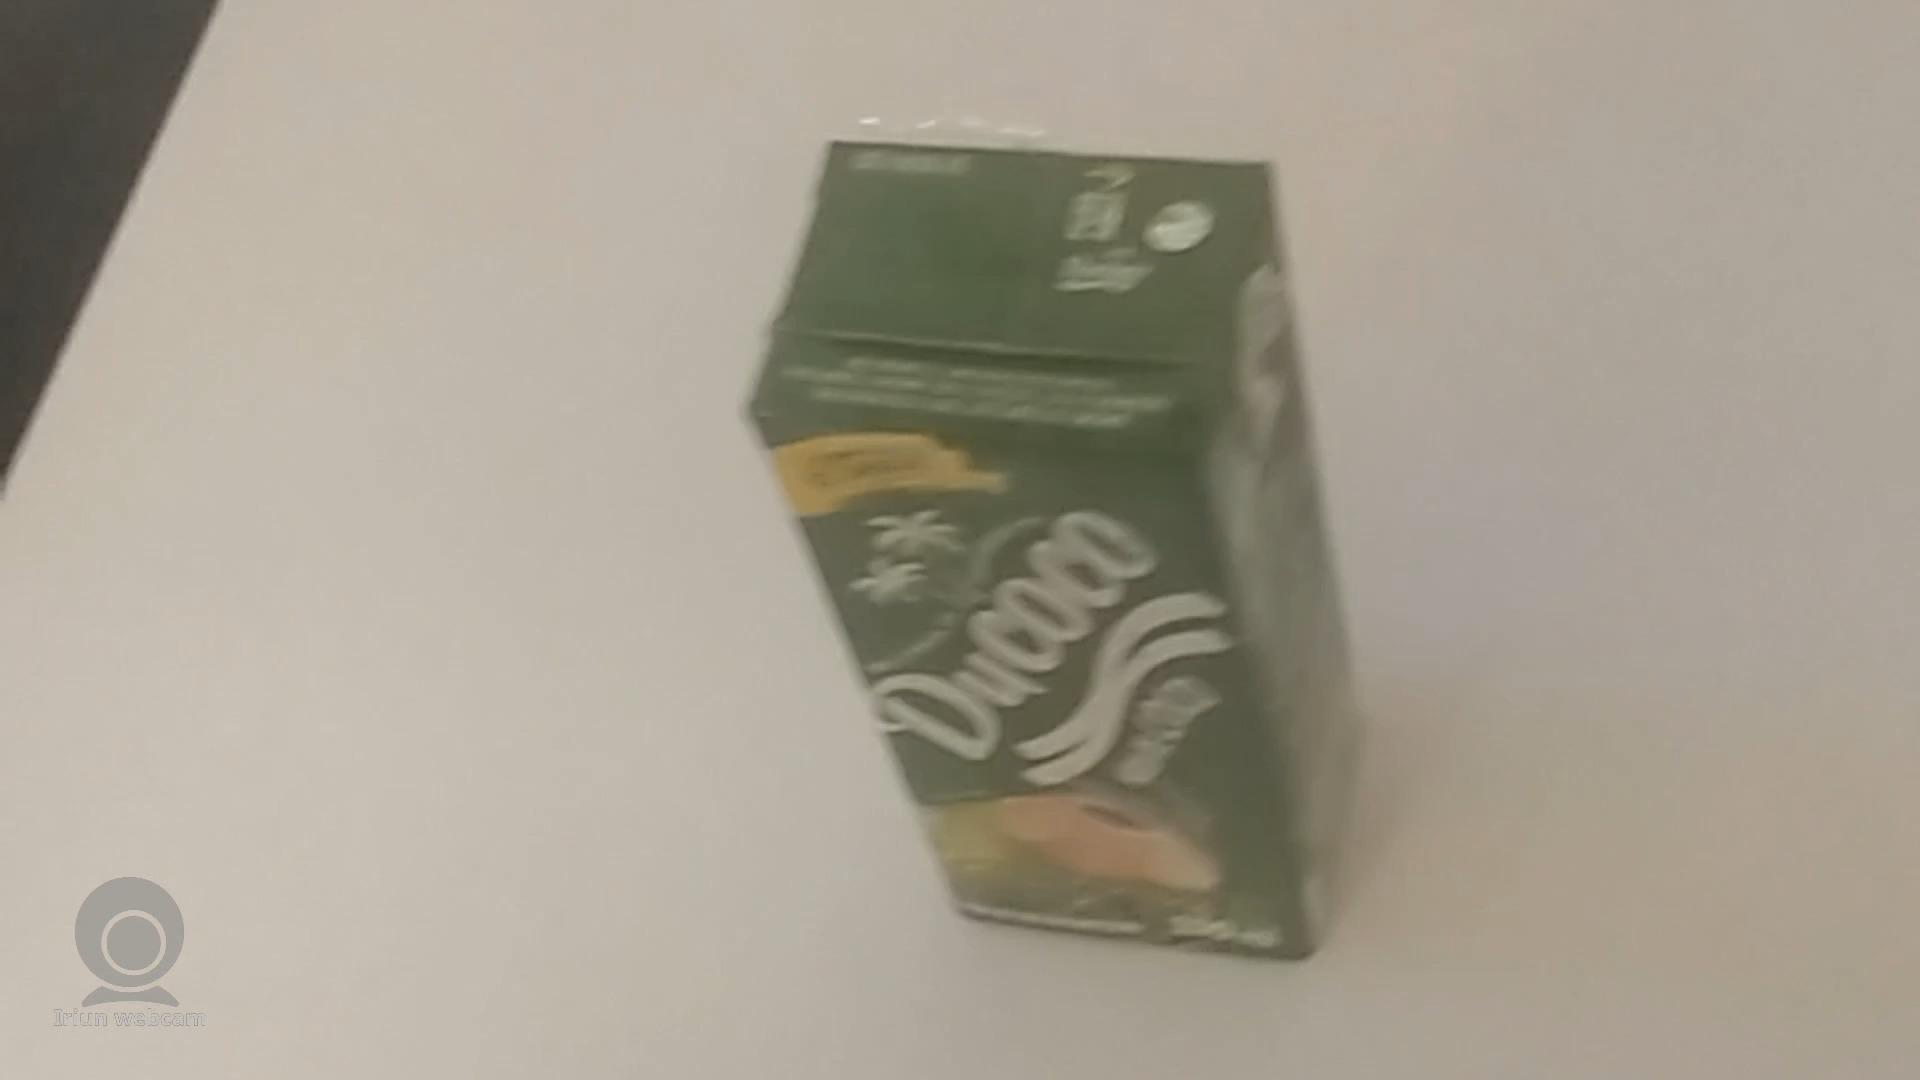coco: (741, 133, 1348, 975)
